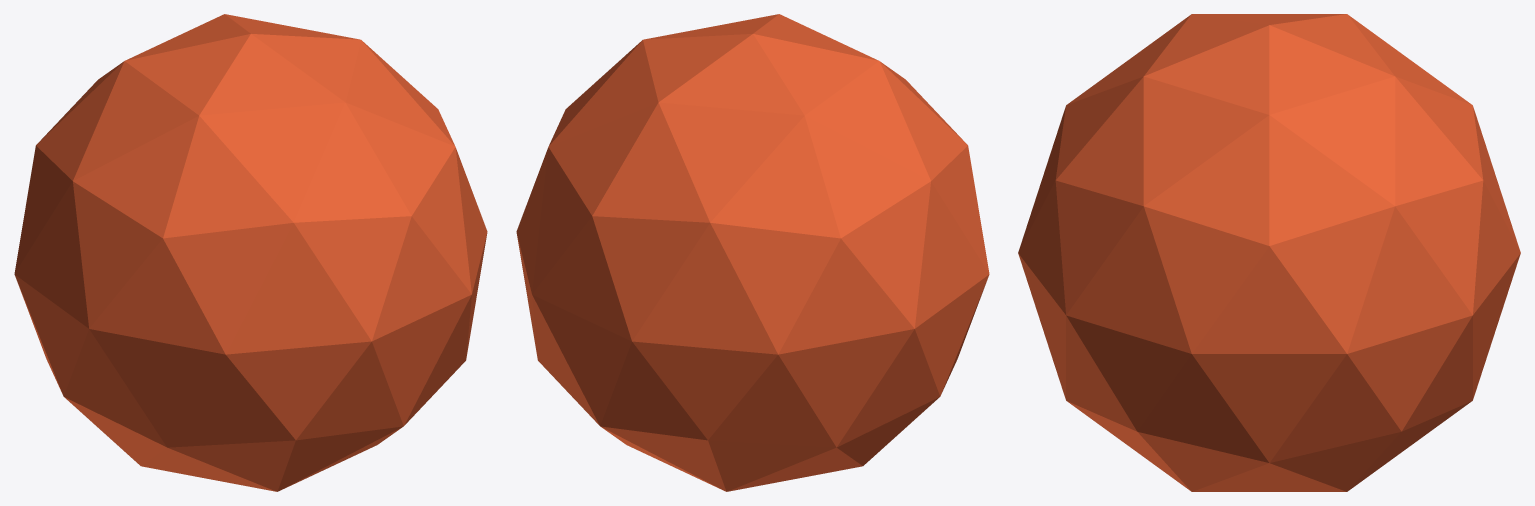
Rendered from firebend.fbx.
The picture shows the model from 3 angles, left to right: view 1: azimuth 30°, elevation 25°; view 2: azimuth 150°, elevation 25°; view 3: azimuth 270°, elevation 25°; orthographic projection. The views are drawn at different scales.
Visible parts, largest first — view 1: Icosphere; view 2: Icosphere; view 3: Icosphere.
Boxes of the visible parts, x1=… form: Icosphere: x1=14, y1=14, x2=487, y2=491; Icosphere: x1=516, y1=14, x2=989, y2=491; Icosphere: x1=1018, y1=14, x2=1520, y2=491.
Bounding box in the file's own units: 190 × 200 × 200.
